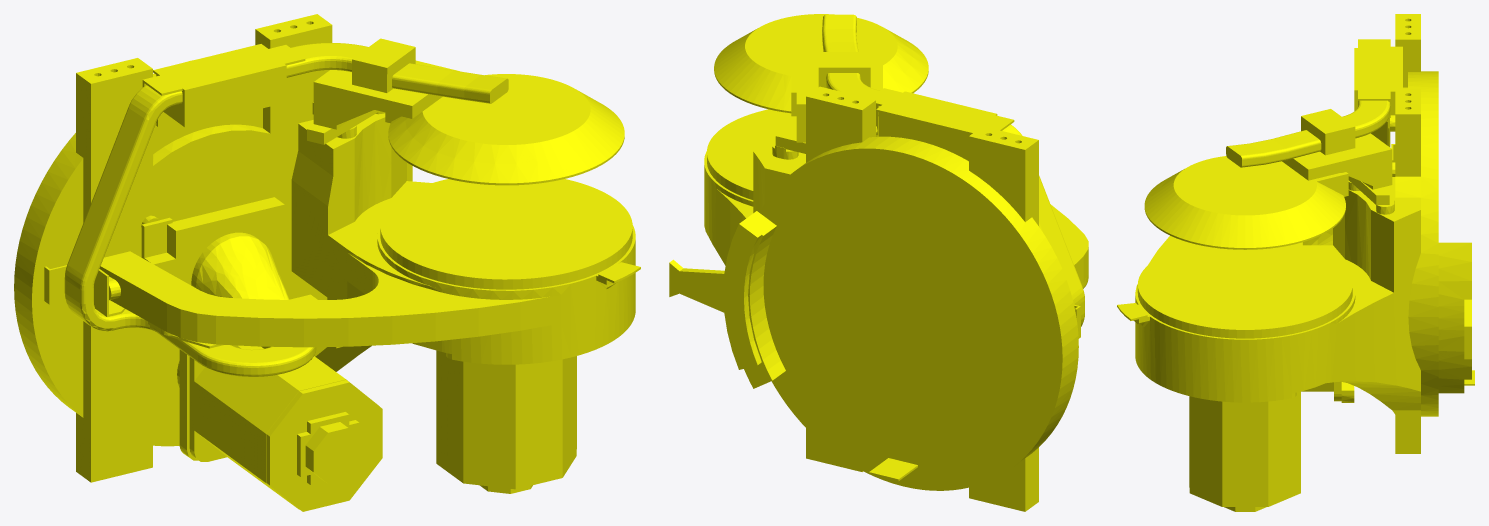
3 renders of one model, left to right at view 1: azimuth 30°, elevation 25°; view 2: azimuth 150°, elevation 25°; view 3: azimuth 270°, elevation 25°, orthographic. The views are drawn at different scales.
Parts seen in each view (by area): view 1: node; view 2: node; view 3: node.
Part boxes in pixels (x1=…): node: x1=14, y1=14, x2=640, y2=511; node: x1=669, y1=14, x2=1088, y2=511; node: x1=1117, y1=14, x2=1474, y2=511.
Bounding box in the file's own units: 752 × 605 × 558.
